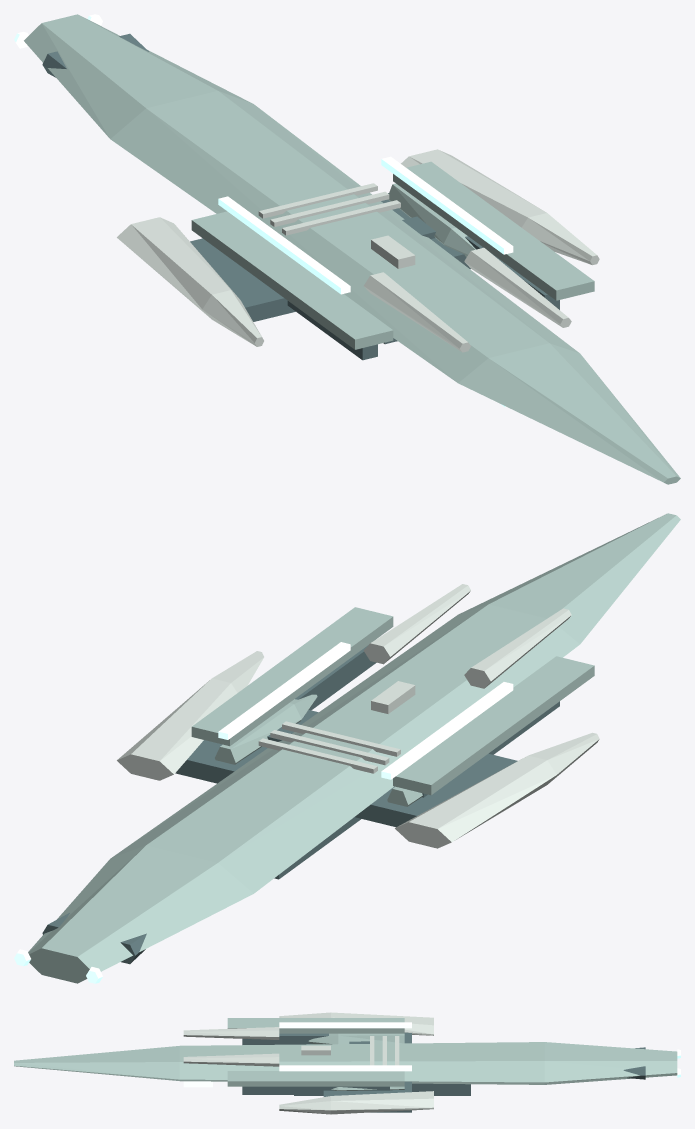
3 renders of one model, top to bottom at view 1: azimuth 30°, elevation 25°; view 2: azimuth 150°, elevation 25°; view 3: azimuth 270°, elevation 25°, orthographic. The views are drawn at different scales.
Size of the model in its own units: 6.73 by 1.56 by 20.27.
